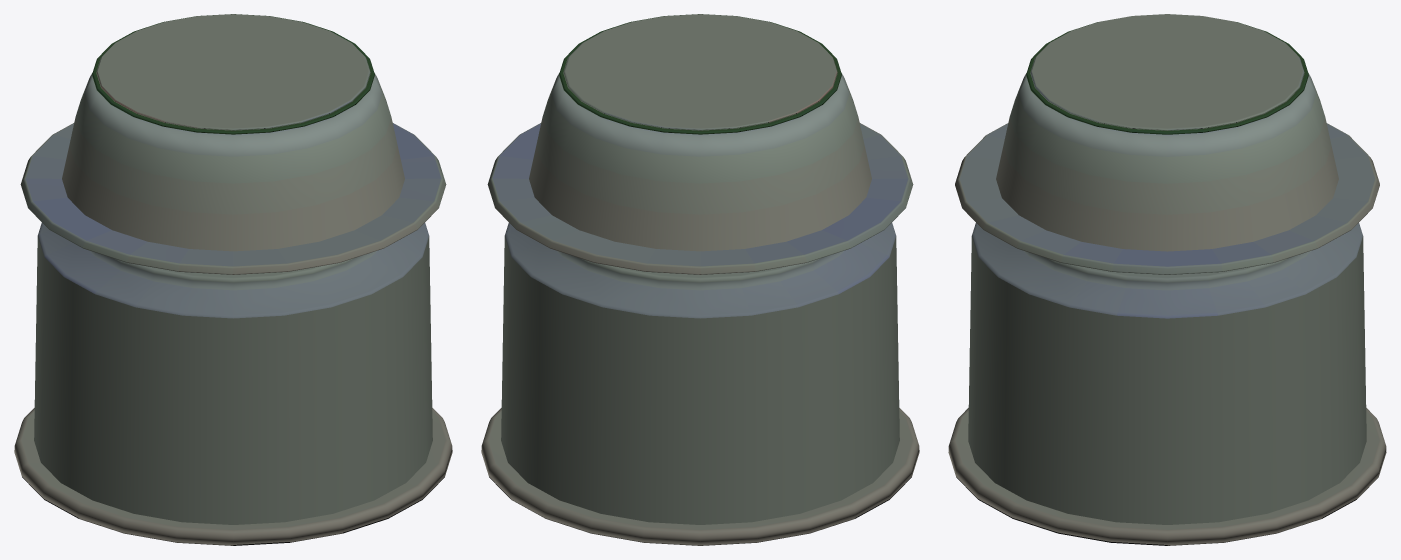
File: Tile_L (2).fbx
The picture shows the model from 3 angles, left to right: view 1: azimuth 30°, elevation 25°; view 2: azimuth 150°, elevation 25°; view 3: azimuth 270°, elevation 25°; orthographic projection.
Parts seen in each view (by area): view 1: Tile_L (2), Tile_L; view 2: Tile_L (2), Tile_L; view 3: Tile_L (2), Tile_L.
Boxes of the visible parts, box(x1,y1,x2,y2) form: Tile_L (2): box(14, 223, 452, 545); Tile_L: box(20, 14, 446, 274); Tile_L (2): box(481, 223, 919, 545); Tile_L: box(487, 14, 913, 274); Tile_L (2): box(948, 223, 1386, 545); Tile_L: box(955, 14, 1379, 274).
Size of the model in its own units: 134 by 129 by 134.
